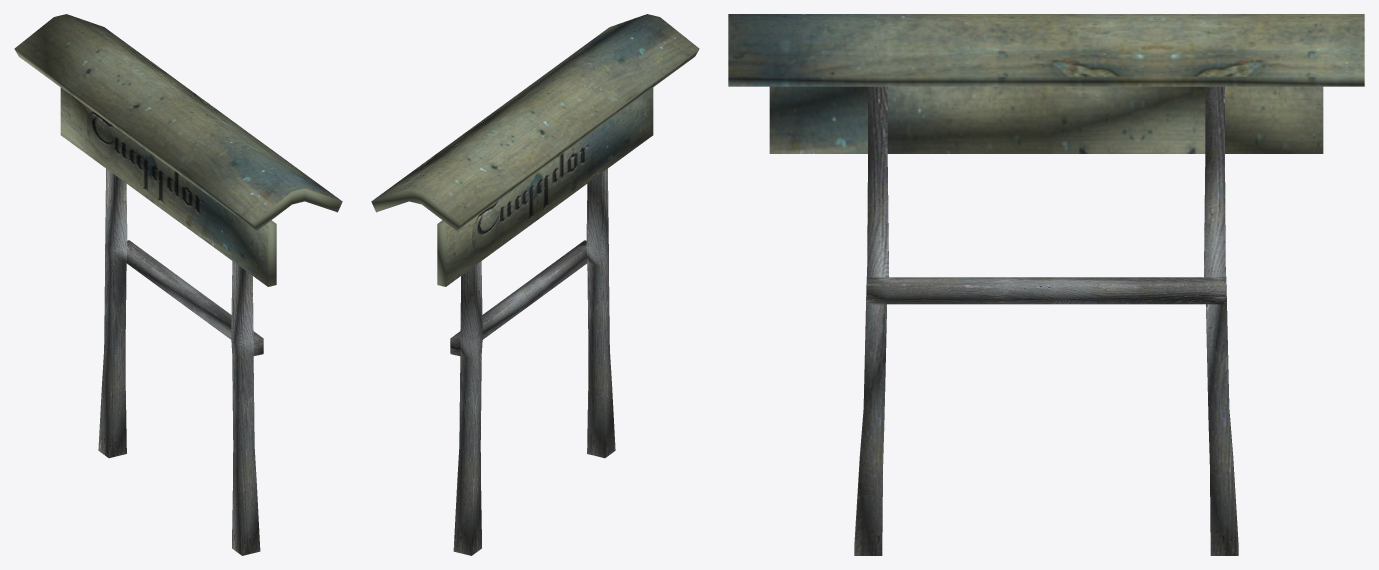
File: signpost4.obj
3 views of the same model, side by side, from view 1: azimuth 30°, elevation 25°; view 2: azimuth 150°, elevation 25°; view 3: azimuth 270°, elevation 25° (orthographic). The views are drawn at different scales.
Size of the model in its own units: 36.24 by 153 by 166.
Materials: 1 (1 with a texture image).
